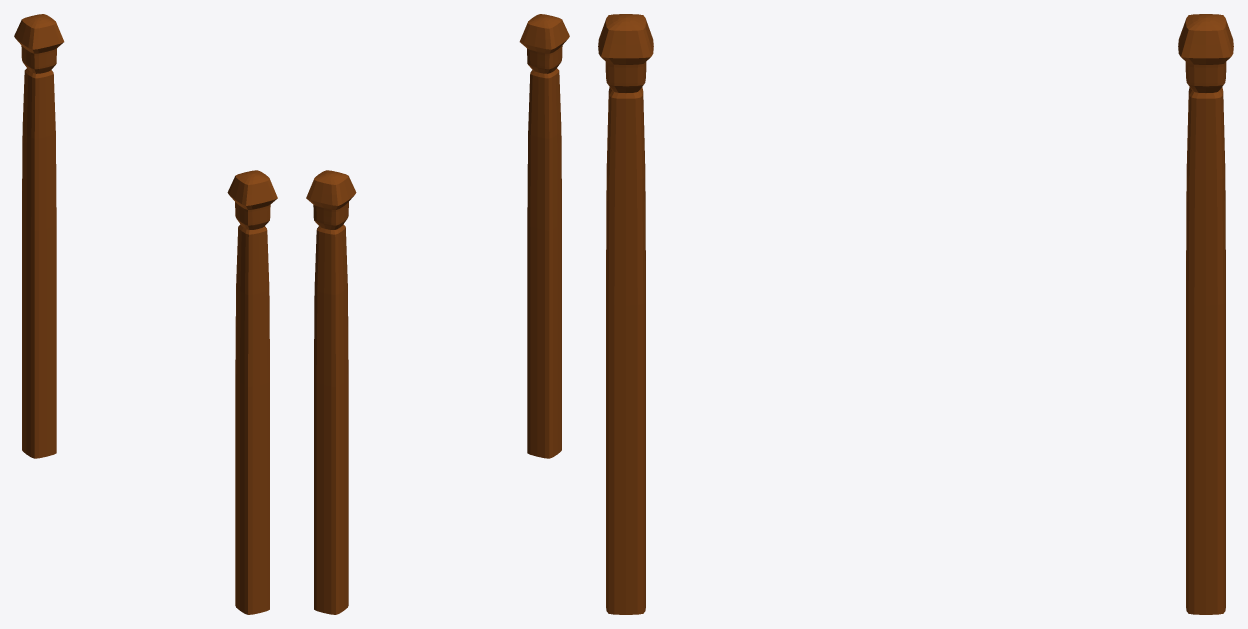
File: headboard_posts_001.FBX
The picture shows the model from 3 angles, left to right: view 1: azimuth 30°, elevation 25°; view 2: azimuth 150°, elevation 25°; view 3: azimuth 270°, elevation 25°; orthographic projection. The views are drawn at different scales.
Visible parts, largest first — view 1: Object001; view 2: Object001; view 3: Object001.
Boxes of the visible parts, x1,y1,x2,y2 form: Object001: (14, 14, 277, 614); Object001: (306, 14, 569, 614); Object001: (598, 14, 1233, 614).
Size of the model in its own units: 0.0997 by 1.16 by 1.14.
